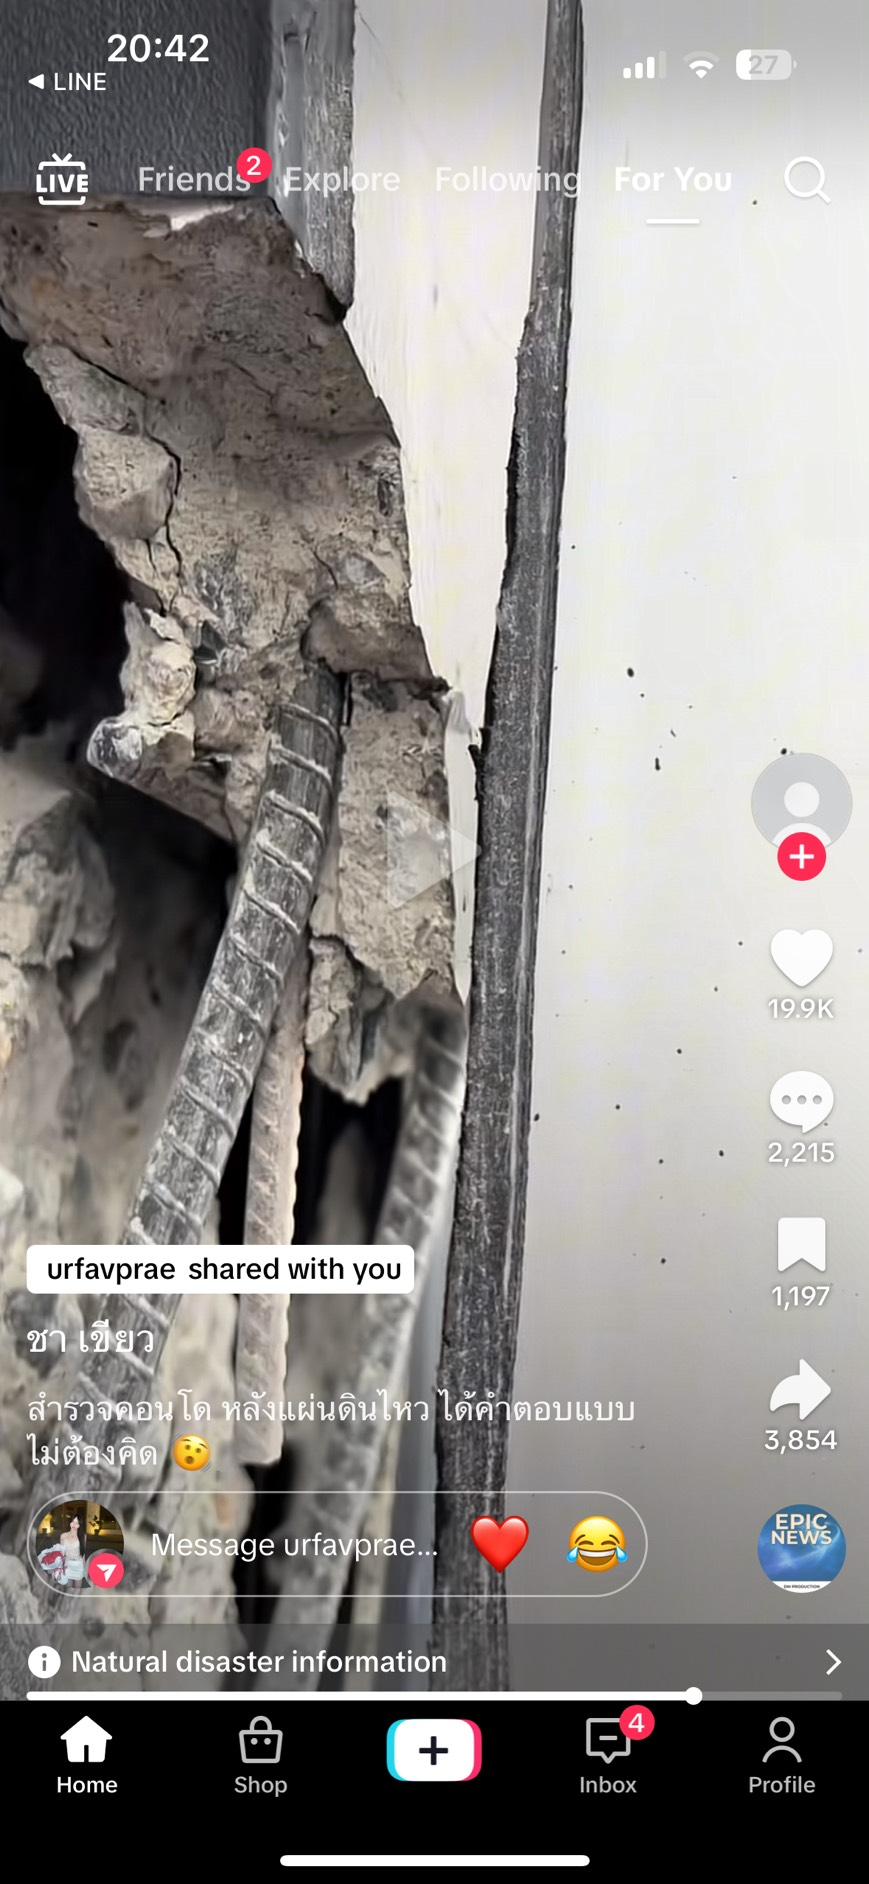High: (10, 205, 577, 1250)
